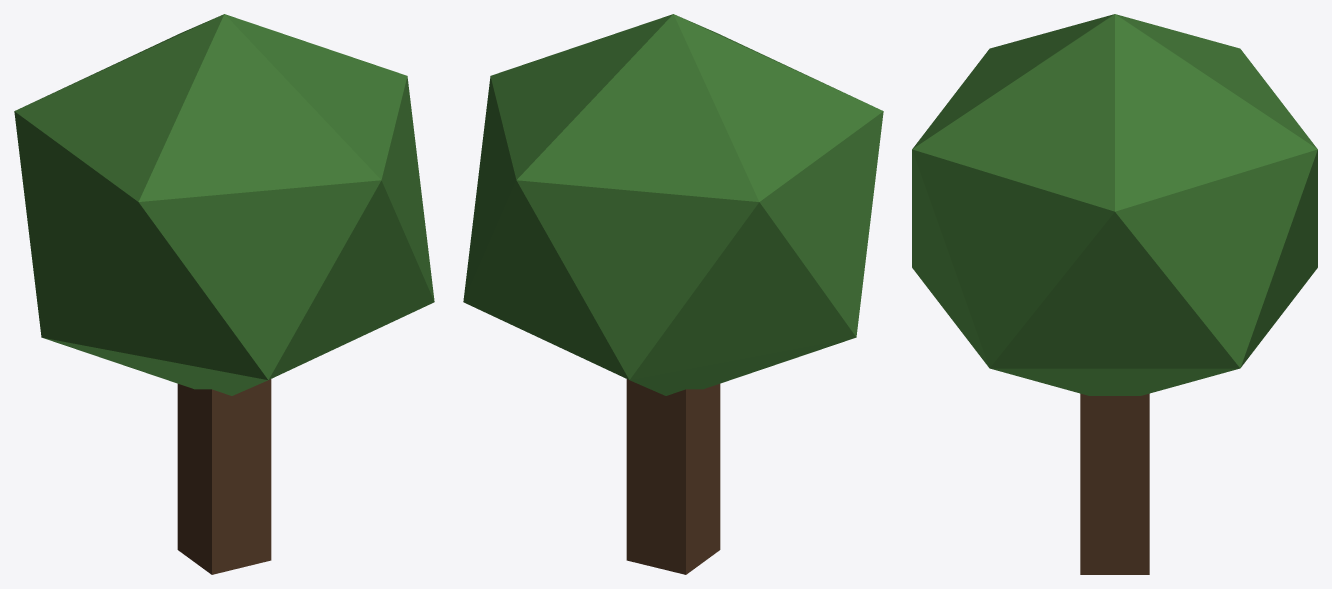
File: tree_round.glb
The picture shows the model from 3 angles, left to right: view 1: azimuth 30°, elevation 25°; view 2: azimuth 150°, elevation 25°; view 3: azimuth 270°, elevation 25°; orthographic projection.
Parts seen in each view (by area): view 1: tree_round; view 2: tree_round; view 3: tree_round.
Part boxes in pixels (<box>): tree_round: <box>14,14,434,574</box>; tree_round: <box>463,14,883,574</box>; tree_round: <box>912,14,1317,574</box>.
Size of the model in its own units: 0.9839 by 1.39 by 0.9357.
1 material, 1 textured.
